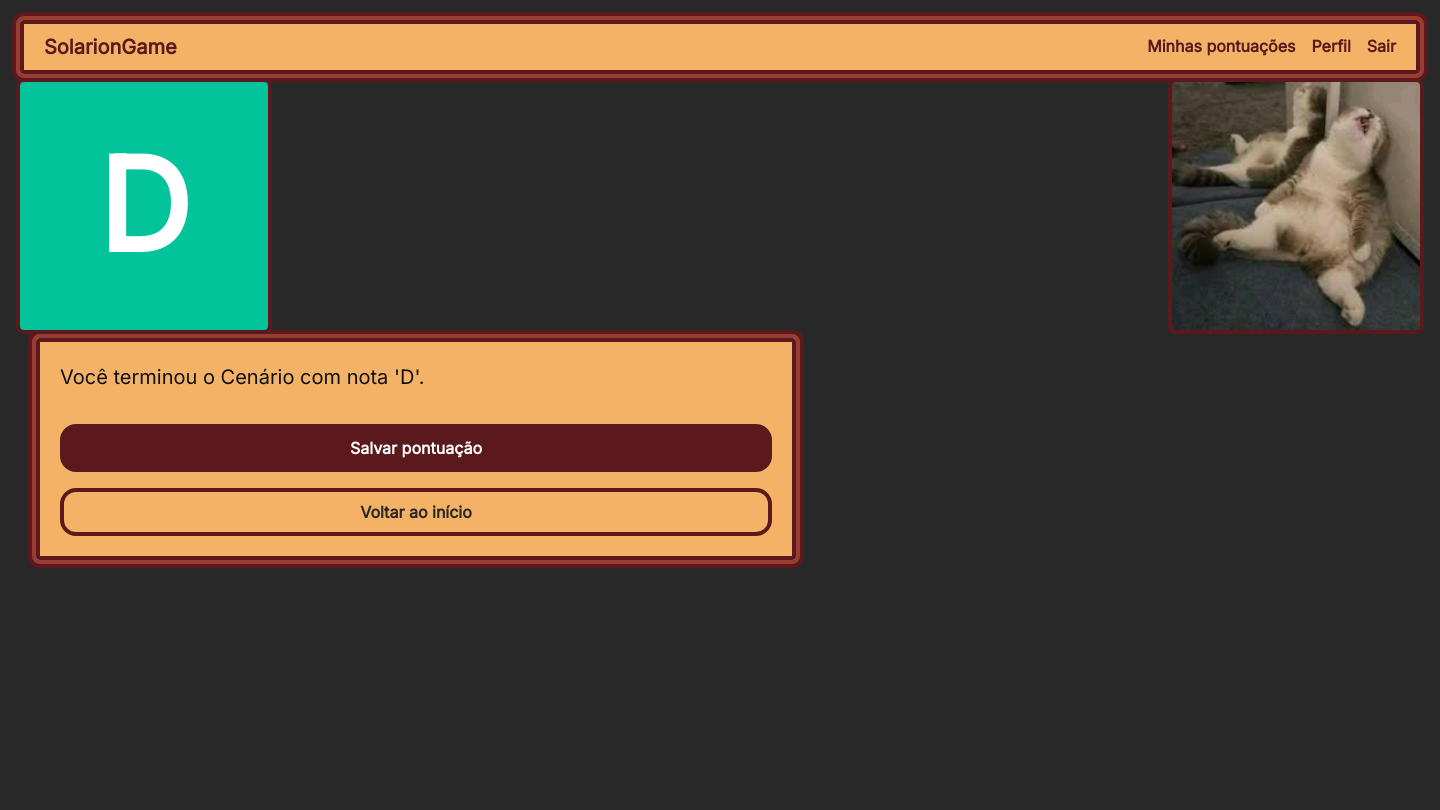
Test: DecisionsRating Page › when have last scenario › and when finished › and when click on save score › and when logged user › and when createScoreApi request fails › should show a warning with the error
Click the button "Salvar pontuação": (416, 448) [60, 424, 772, 472]
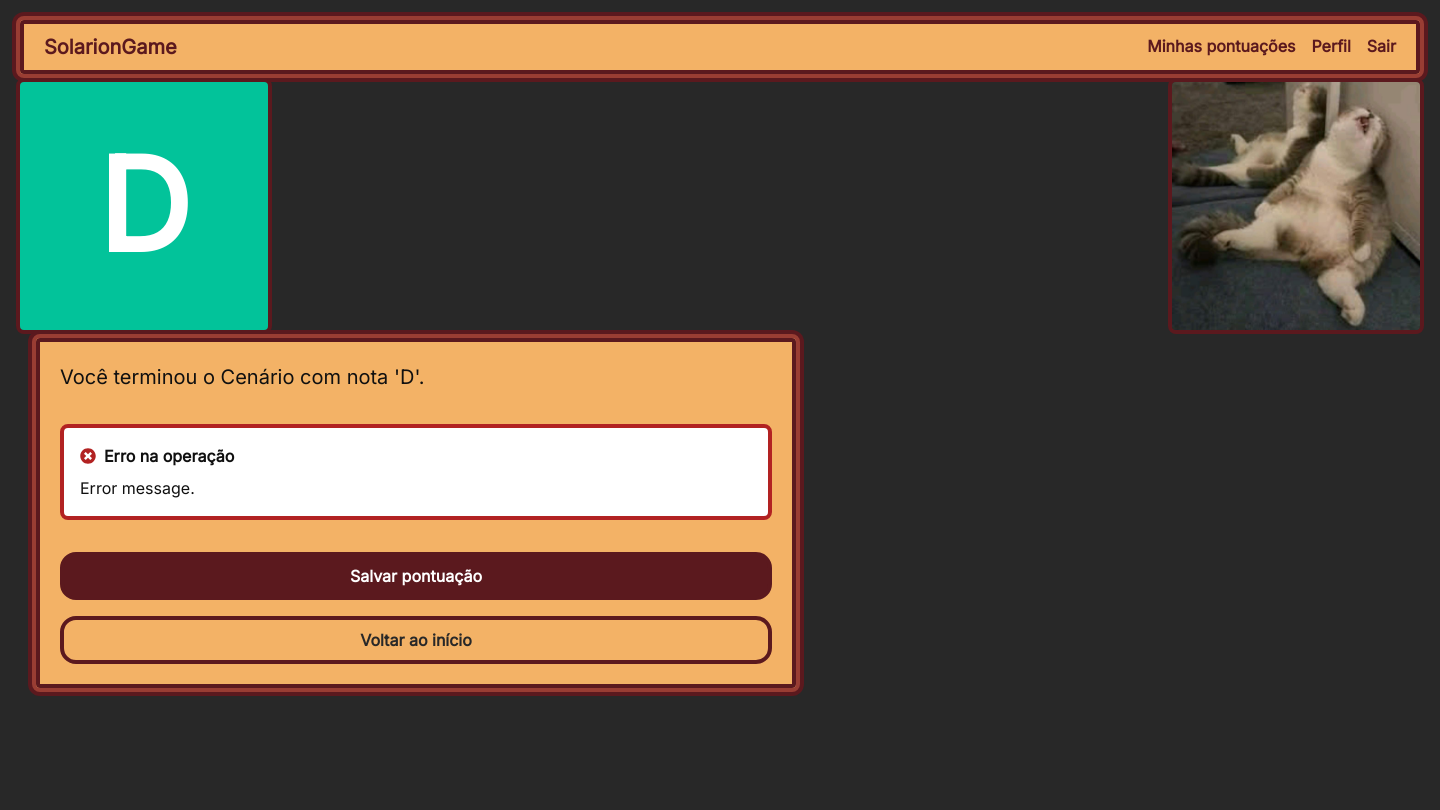
Expected: the message "Erro na operação Error message." is shown, [60, 424, 772, 520]
Expected: the text "Error message." is shown, [80, 478, 195, 498]
